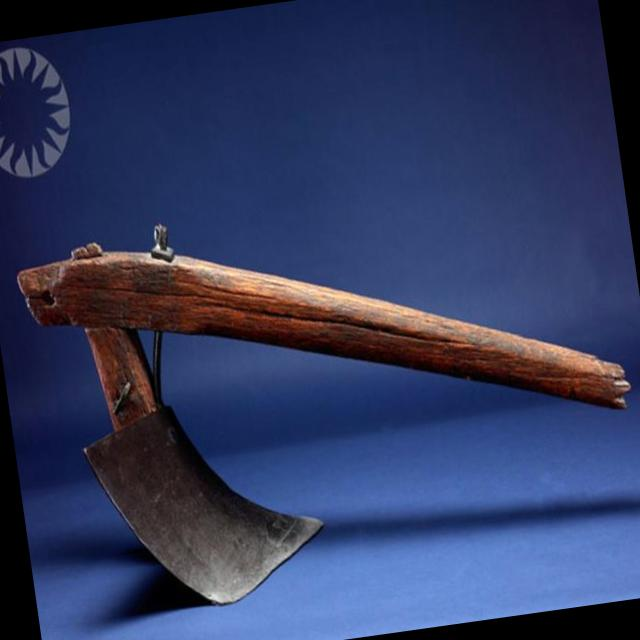Axe: (18, 232, 631, 603)
